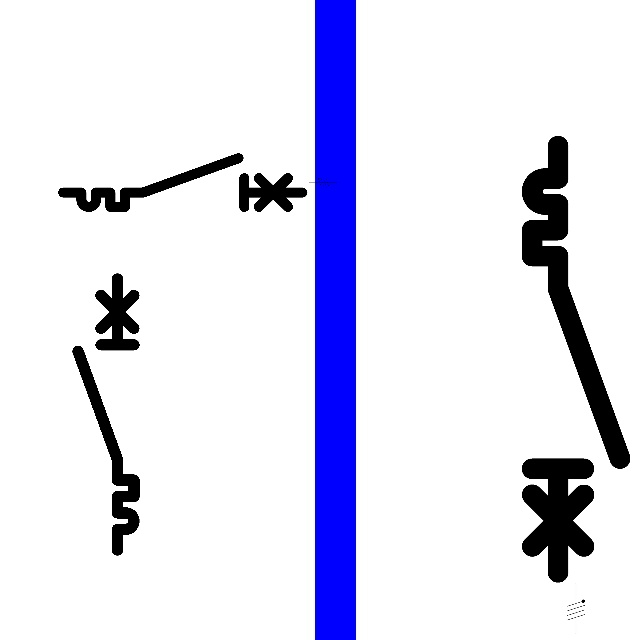interruptor_termomagnetico: (521, 135, 631, 584), (71, 272, 141, 557), (57, 152, 309, 213)
